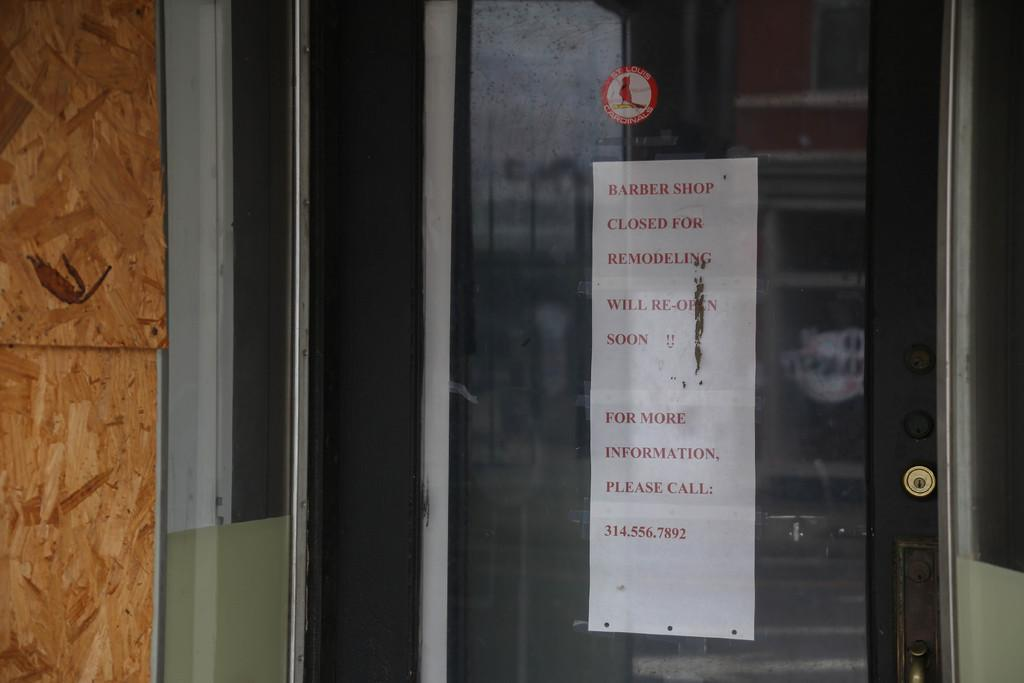handle: (898, 635, 928, 683)
